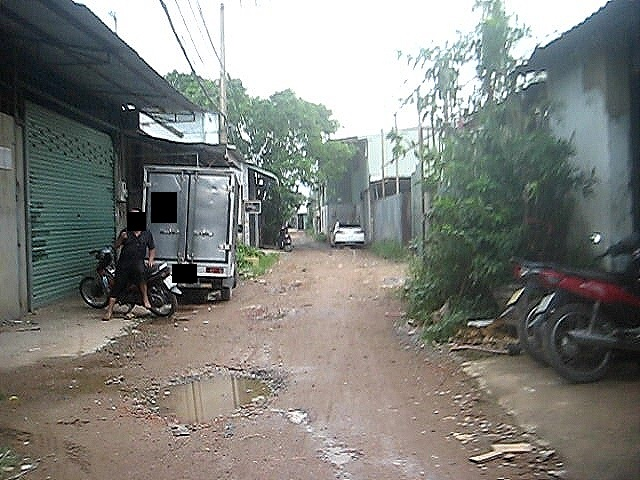hole: (117, 353, 288, 441), (234, 302, 304, 332), (311, 437, 366, 475), (273, 404, 316, 429)
